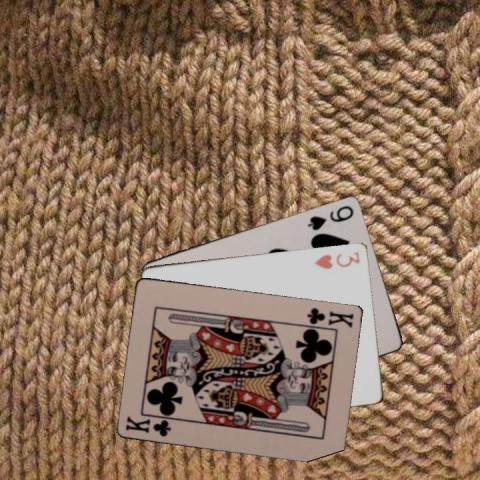3h: (312, 249, 361, 270)
9s: (304, 202, 355, 231)
Kc: (304, 304, 355, 329), (123, 413, 173, 438)
